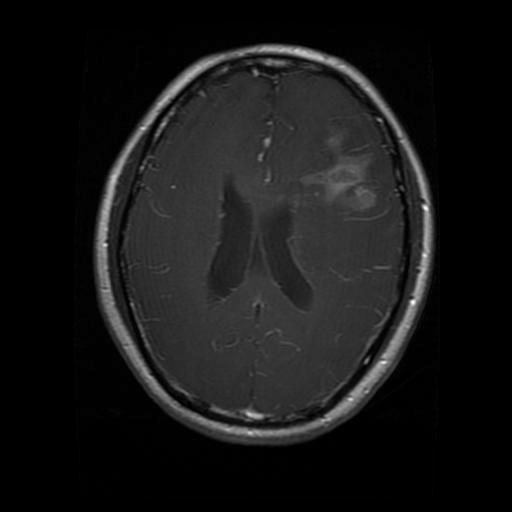Tumour-Glioma: (318, 142, 391, 214)
